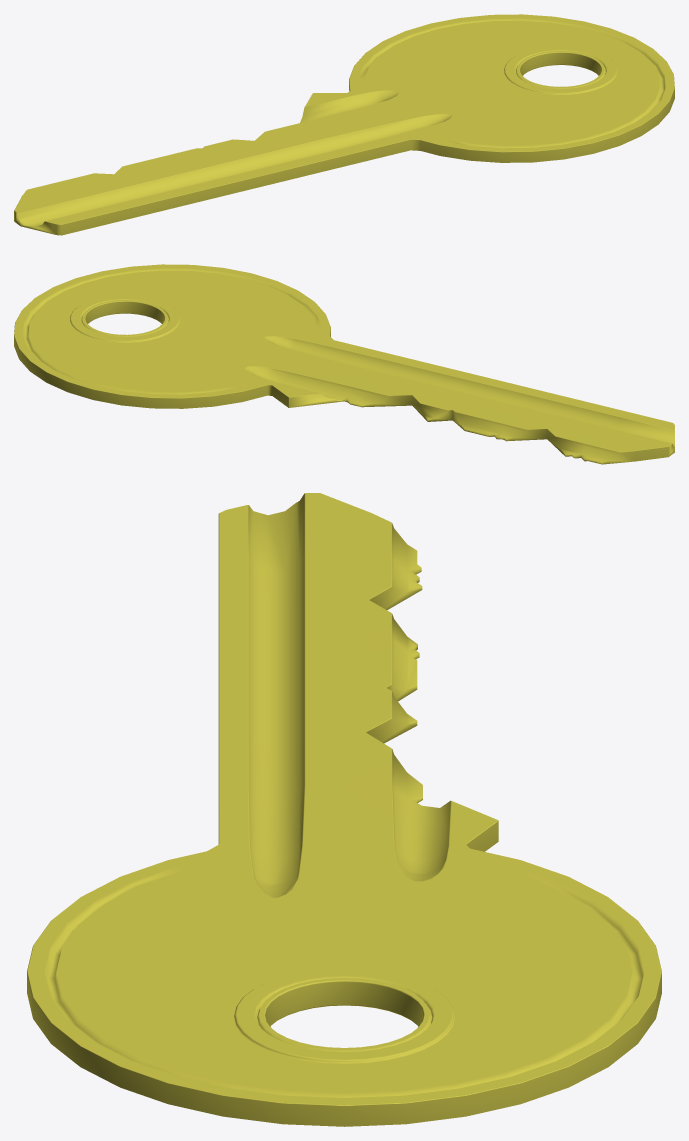
The picture shows the model from 3 angles, top to bottom: view 1: azimuth 30°, elevation 25°; view 2: azimuth 150°, elevation 25°; view 3: azimuth 270°, elevation 25°; orthographic projection. The views are drawn at different scales.
Parts seen in each view (by area): view 1: Key_003_Lo; view 2: Key_003_Lo; view 3: Key_003_Lo.
Part boxes in pixels (box(x1,y1,x2,y2)): Key_003_Lo: box(14, 14, 674, 235); Key_003_Lo: box(14, 264, 674, 464); Key_003_Lo: box(27, 493, 661, 1126).
Size of the model in its own units: 8.94 by 0.175 by 3.92.
